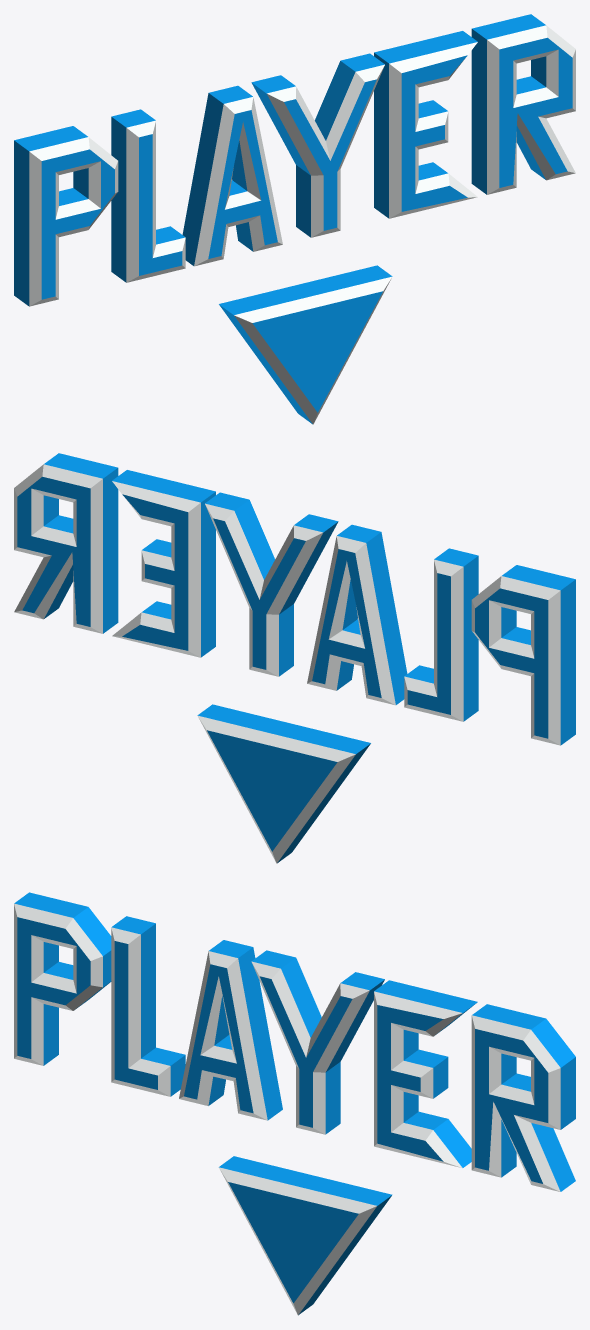
The model's file is player.fbx.
3 renders of one model, top to bottom at view 1: azimuth 30°, elevation 25°; view 2: azimuth 150°, elevation 25°; view 3: azimuth 330°, elevation 25°, orthographic.
Visible parts, largest first — view 1: player; view 2: player; view 3: player.
Boxes of the visible parts, x1,y1,x2,y2 form: player: [14, 14, 575, 424]; player: [14, 453, 575, 863]; player: [14, 892, 575, 1315].
Size of the model in its own units: 207 by 124 by 16.
